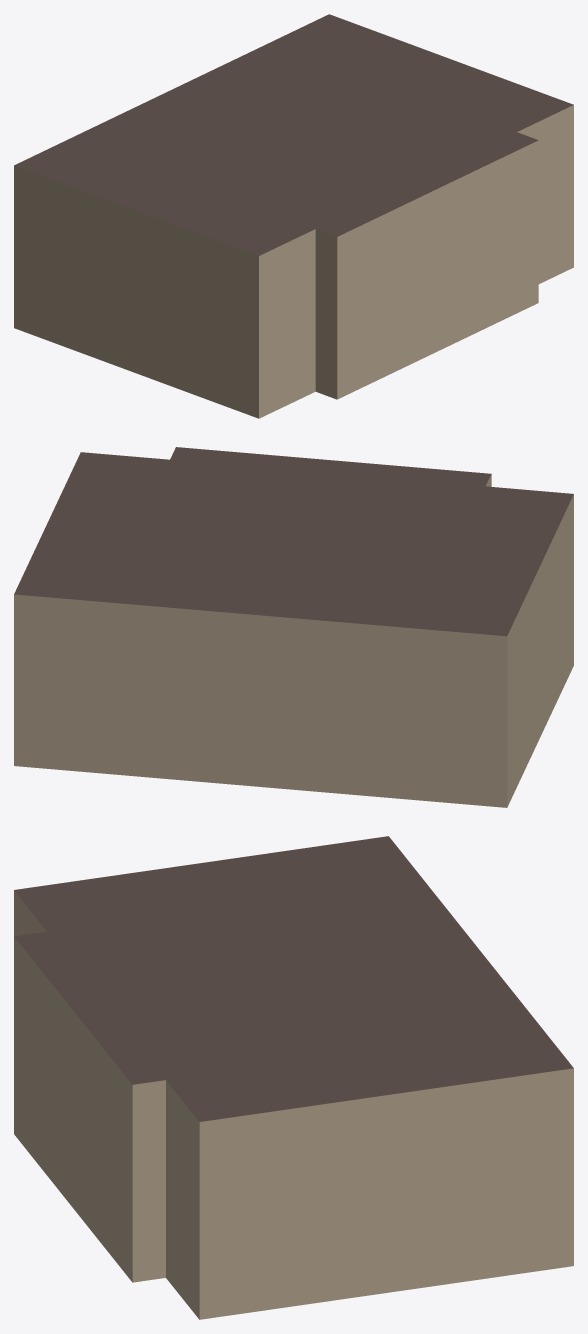
The picture shows the model from 3 angles, top to bottom: view 1: azimuth 30°, elevation 25°; view 2: azimuth 150°, elevation 25°; view 3: azimuth 270°, elevation 25°; orthographic projection. The views are drawn at different scales.
Parts seen in each view (by area): view 1: HP-w783664781; view 2: HP-w783664781; view 3: HP-w783664781.
Boxes of the visible parts, x1,y1,x2,y2 form: HP-w783664781: (14,14,573,418); HP-w783664781: (14,447,573,807); HP-w783664781: (14,836,573,1319).
Size of the model in its own units: 27.91 by 9 by 23.09.
